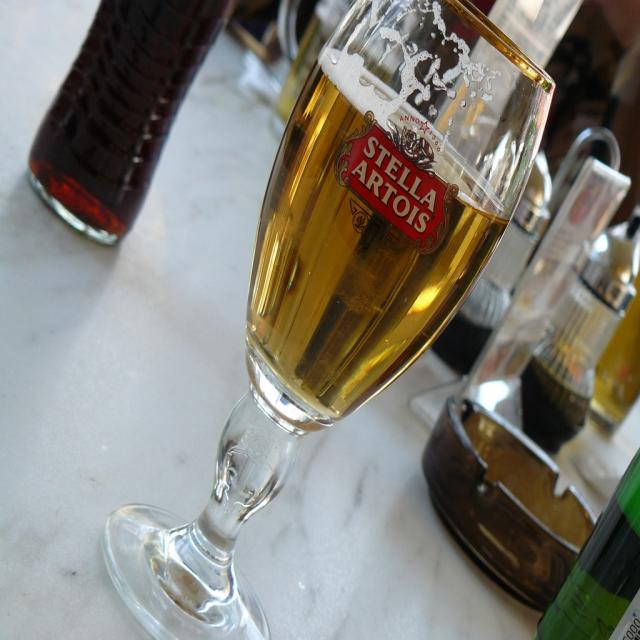stellaartois: (332, 107, 459, 262)
